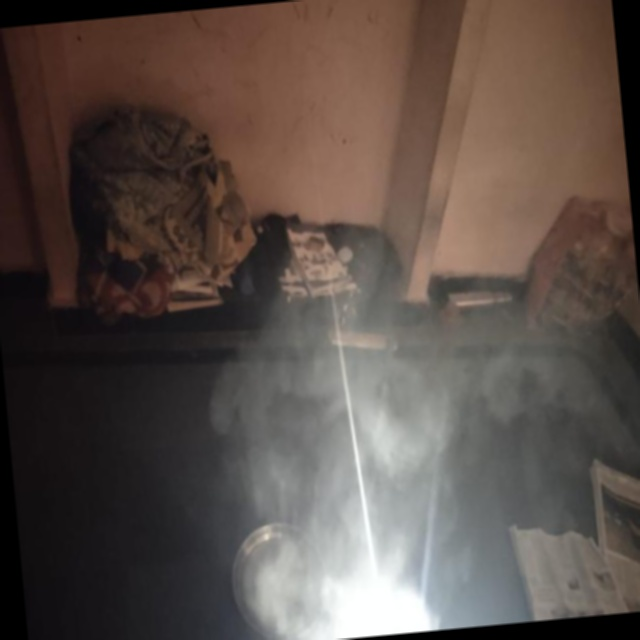smoke: (246, 408, 482, 640)
